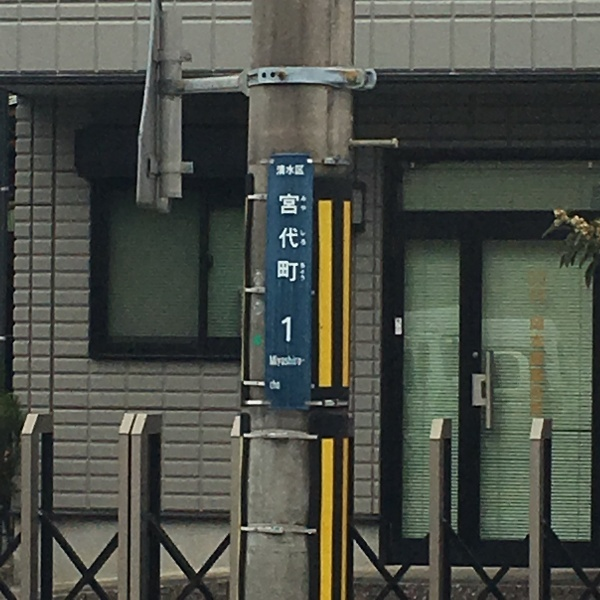text: (289, 193, 300, 285), (279, 193, 288, 285), (289, 164, 305, 177), (281, 316, 288, 345), (273, 356, 288, 368), (289, 356, 304, 368), (276, 164, 288, 177), (273, 379, 280, 392), (300, 262, 304, 284), (289, 316, 292, 345), (301, 195, 304, 214), (301, 229, 304, 248), (269, 379, 272, 392), (305, 195, 307, 214), (305, 229, 307, 248), (269, 356, 272, 368), (305, 262, 306, 284), (305, 356, 306, 368)
